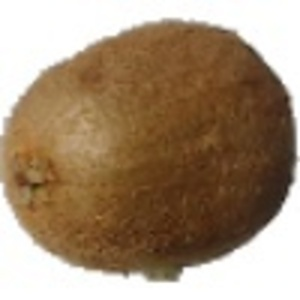kiwi: (1, 17, 300, 284)
